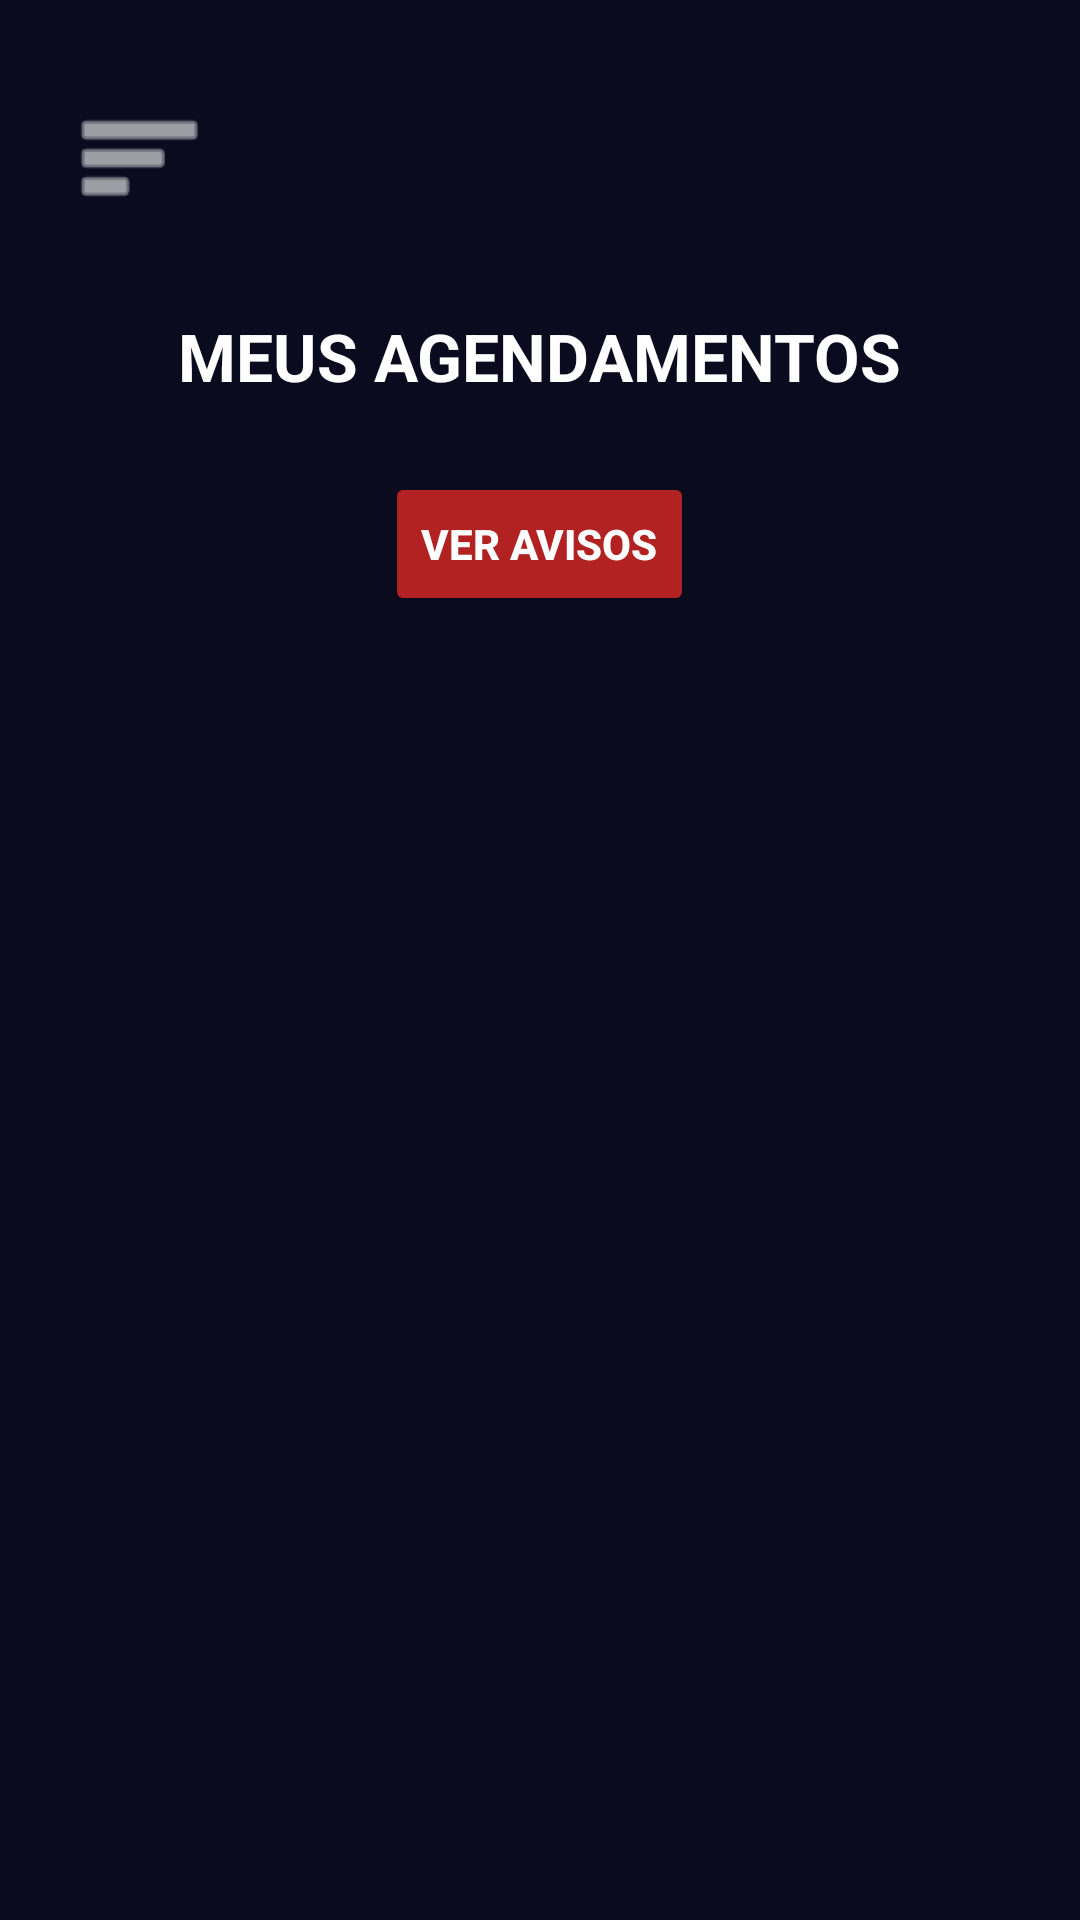

Named icons in this screenshot (1080×1920) and their centers, point (x, y):
sort by size: point (139, 158)
